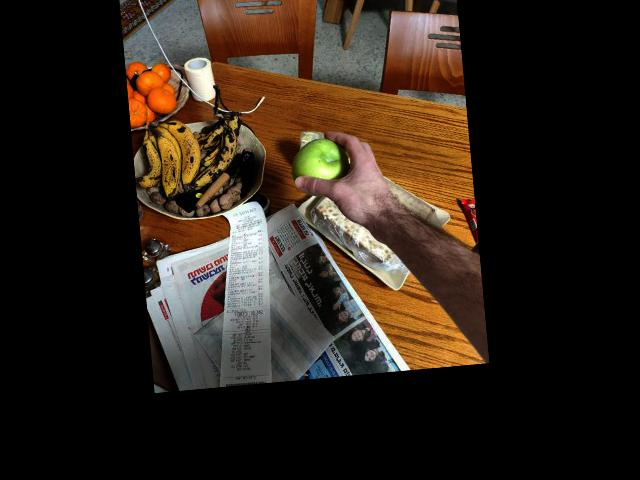apple: (290, 128, 360, 194)
